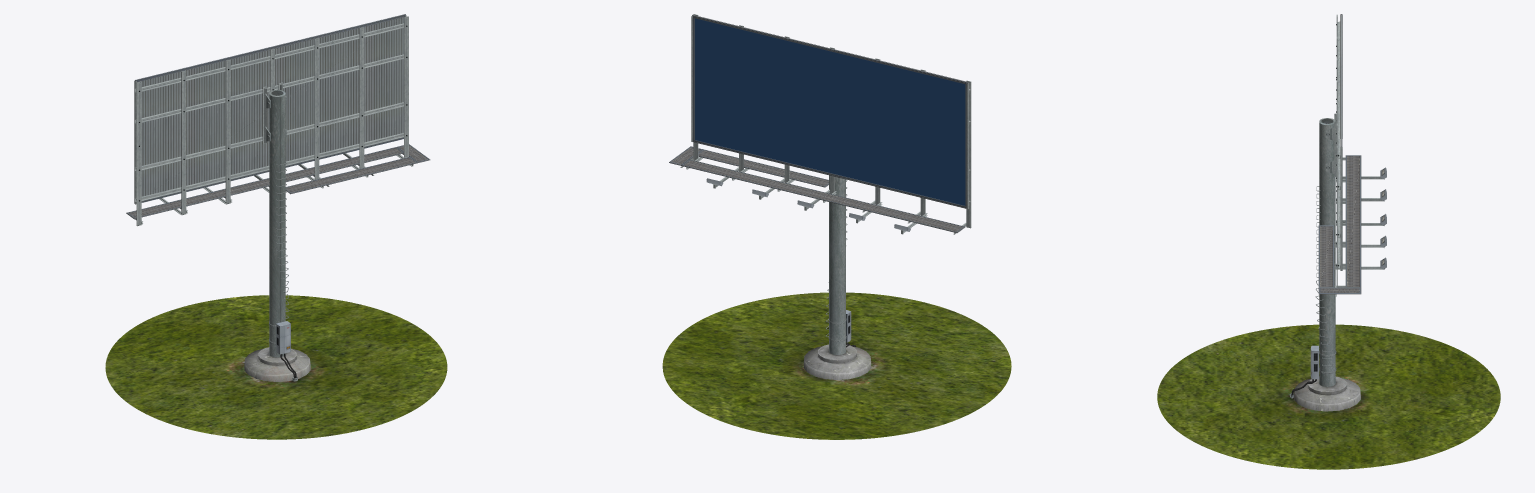
File: cgimodels billboard.obj
3 views of the same model, side by side, from view 1: azimuth 30°, elevation 25°; view 2: azimuth 150°, elevation 25°; view 3: azimuth 270°, elevation 25° (orthographic). The views are drawn at different scales.
Visible parts, largest first — view 1: Billboard_A, ground_A; view 2: Billboard_A, ground_A; view 3: ground_A, Billboard_A.
Boxes of the visible parts, left/top/right/bottom form: Billboard_A: left=126, top=14, right=430, bottom=381; ground_A: left=105, top=295, right=447, bottom=439; Billboard_A: left=669, top=14, right=971, bottom=379; ground_A: left=662, top=292, right=1011, bottom=439; ground_A: left=1157, top=324, right=1500, bottom=469; Billboard_A: left=1289, top=14, right=1386, bottom=411.
Bounding box in the file's own units: 10.21 × 9.26 × 10.21.
2 materials, 2 textured.
